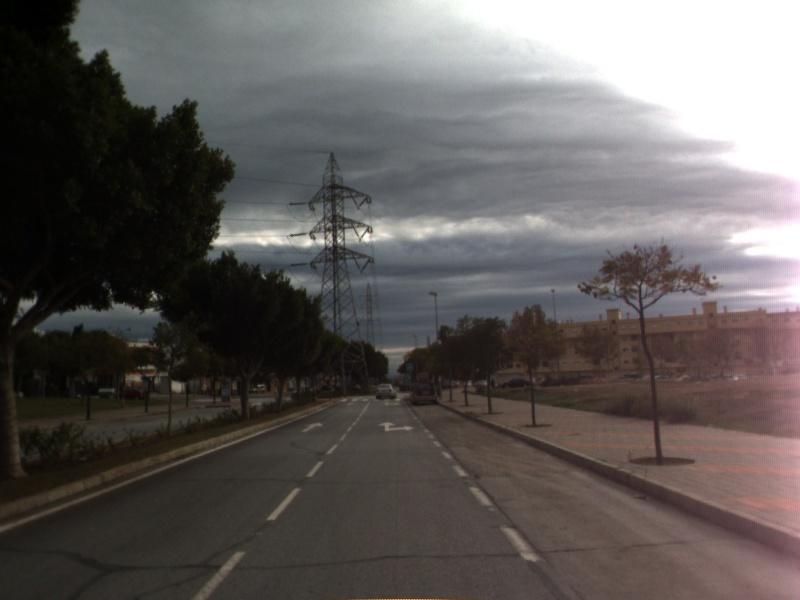STRAIGHT: (299, 420, 326, 434)
STRAIGHT_RIGHT: (376, 419, 416, 434)
